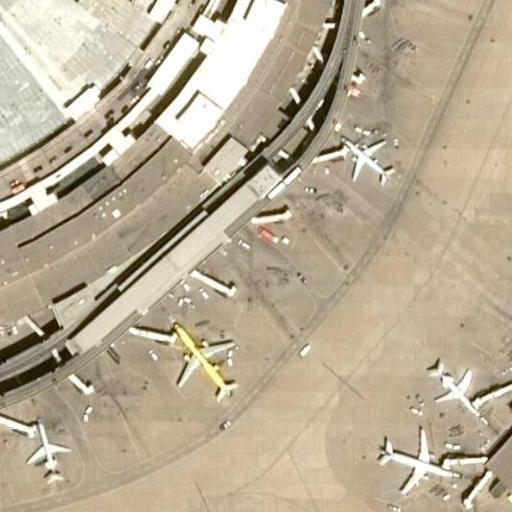Aircraft: (369, 429, 460, 502), (168, 320, 238, 408), (421, 356, 486, 417), (333, 130, 394, 188), (29, 420, 67, 490), (507, 510, 512, 512)
